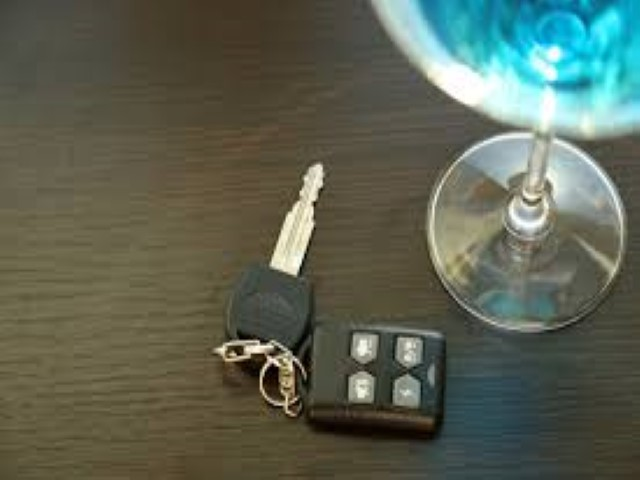key: (226, 162, 328, 328)
